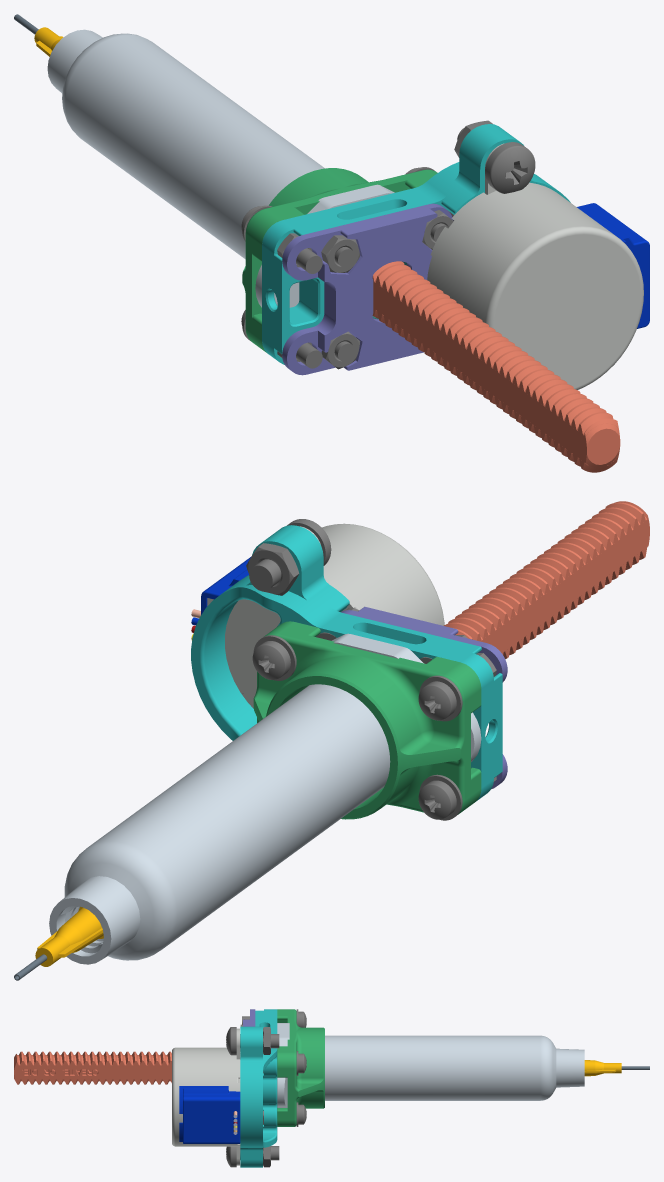
Rendered from dispenser.glb.
The picture shows the model from 3 angles, top to bottom: view 1: azimuth 30°, elevation 25°; view 2: azimuth 150°, elevation 25°; view 3: azimuth 270°, elevation 25°; orthographic projection. The views are drawn at different scales.
Visible parts, largest first — view 1: Volumenkörper1006, Volumenkörper1003, Volumenkörper1009, Volumenkörper1002, Volumenkörper1022, Volumenkörper1023, Volumenkörper1032, Volumenkörper5, Volumenkörper1017; view 2: Volumenkörper1006, Volumenkörper1023, Volumenkörper1002, Volumenkörper1003, Volumenkörper1022, Volumenkörper2, Volumenkörper1009, Volumenkörper1008, Volumenkörper1032, Volumenkörper1035, Volumenkörper1030, Volumenkörper1031 (+2 smaller); view 3: Volumenkörper1006, Volumenkörper1002, Volumenkörper1023, Volumenkörper5, Volumenkörper1003, Volumenkörper1022, Volumenkörper1008, Volumenkörper1032, Volumenkörper1033.
Boxes of the visible parts, x1,y1,x2,y2 form: Volumenkörper1006: [47, 29, 394, 307]; Volumenkörper1003: [429, 182, 643, 389]; Volumenkörper1009: [282, 203, 453, 375]; Volumenkörper1002: [262, 124, 570, 364]; Volumenkörper1022: [373, 279, 620, 468]; Volumenkörper1023: [242, 168, 437, 353]; Volumenkörper1032: [457, 128, 535, 193]; Volumenkörper5: [577, 203, 649, 328]; Volumenkörper1017: [321, 235, 359, 272]; Volumenkörper1006: [49, 633, 481, 964]; Volumenkörper1023: [253, 621, 481, 819]; Volumenkörper1002: [191, 525, 502, 801]; Volumenkörper1003: [243, 523, 444, 704]; Volumenkörper1022: [480, 516, 649, 652]; Volumenkörper2: [207, 526, 350, 708]; Volumenkörper1009: [341, 606, 507, 788]; Volumenkörper1008: [35, 906, 103, 966]; Volumenkörper1032: [249, 519, 331, 590]; Volumenkörper1035: [246, 543, 299, 595]; Volumenkörper1030: [418, 681, 456, 720]; Volumenkörper1031: [418, 780, 456, 819]; Volumenkörper1006: [277, 1023, 584, 1107]; Volumenkörper1002: [240, 1009, 277, 1167]; Volumenkörper1023: [277, 1009, 324, 1126]; Volumenkörper5: [179, 1086, 240, 1143]; Volumenkörper1003: [172, 1047, 240, 1146]; Volumenkörper1022: [14, 1055, 171, 1081]; Volumenkörper1008: [584, 1060, 621, 1076]; Volumenkörper1032: [226, 1027, 279, 1055]; Volumenkörper1033: [226, 1146, 279, 1167].
Size of the model in its own units: 0.0554 by 0.043 by 0.18.
